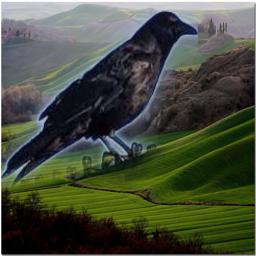Crow: (1, 10, 198, 188)
